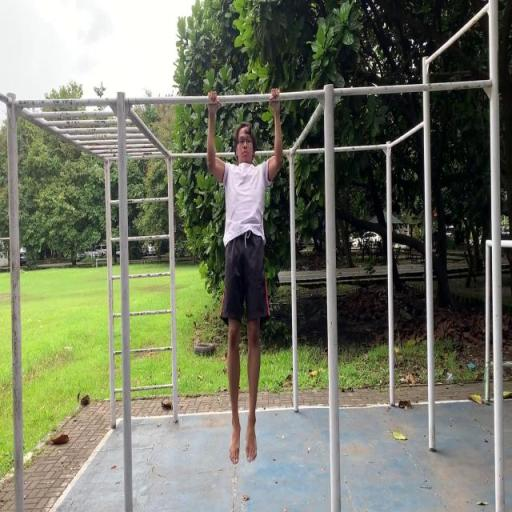Normal_BrenchPress: (205, 87, 284, 465)
